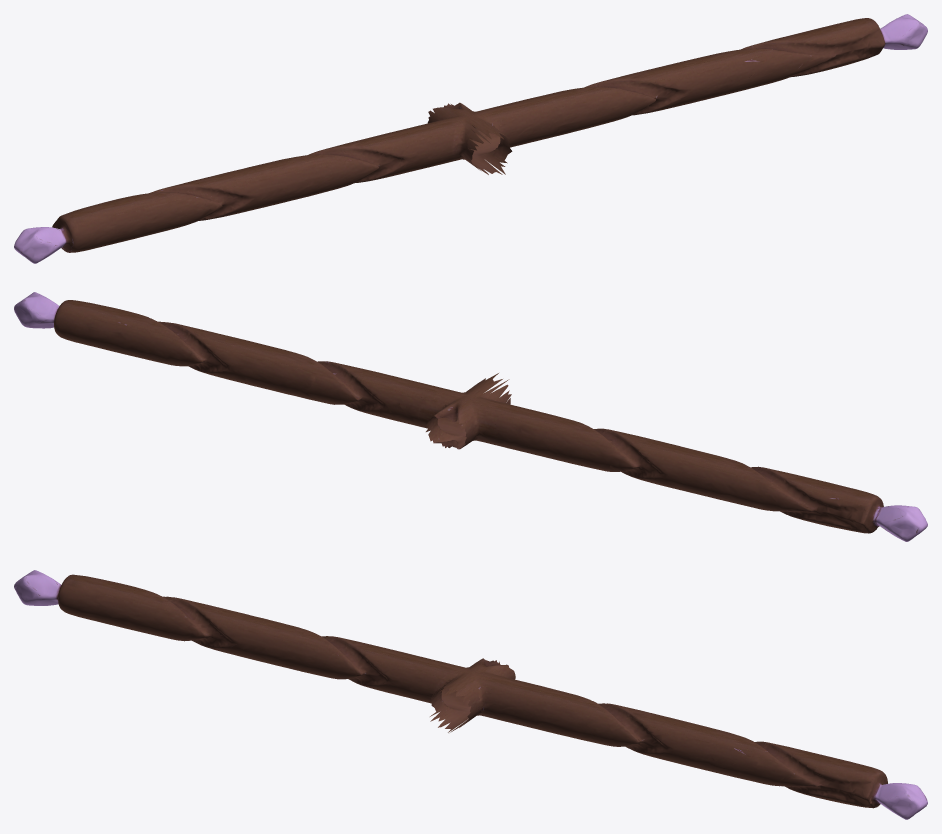
Rendered from wizard-wand.glb.
The picture shows the model from 3 angles, top to bottom: view 1: azimuth 30°, elevation 25°; view 2: azimuth 150°, elevation 25°; view 3: azimuth 330°, elevation 25°; orthographic projection.
Visible parts, largest first — view 1: Mesh_0; view 2: Mesh_0; view 3: Mesh_0.
Boxes of the visible parts, x1,y1,x2,y2 form: Mesh_0: (14, 14, 927, 263); Mesh_0: (14, 292, 927, 541); Mesh_0: (14, 570, 927, 819).
Bounding box in the file's own units: 1.9 × 0.078 × 0.2095.
Materials: 1 (1 with a texture image).
